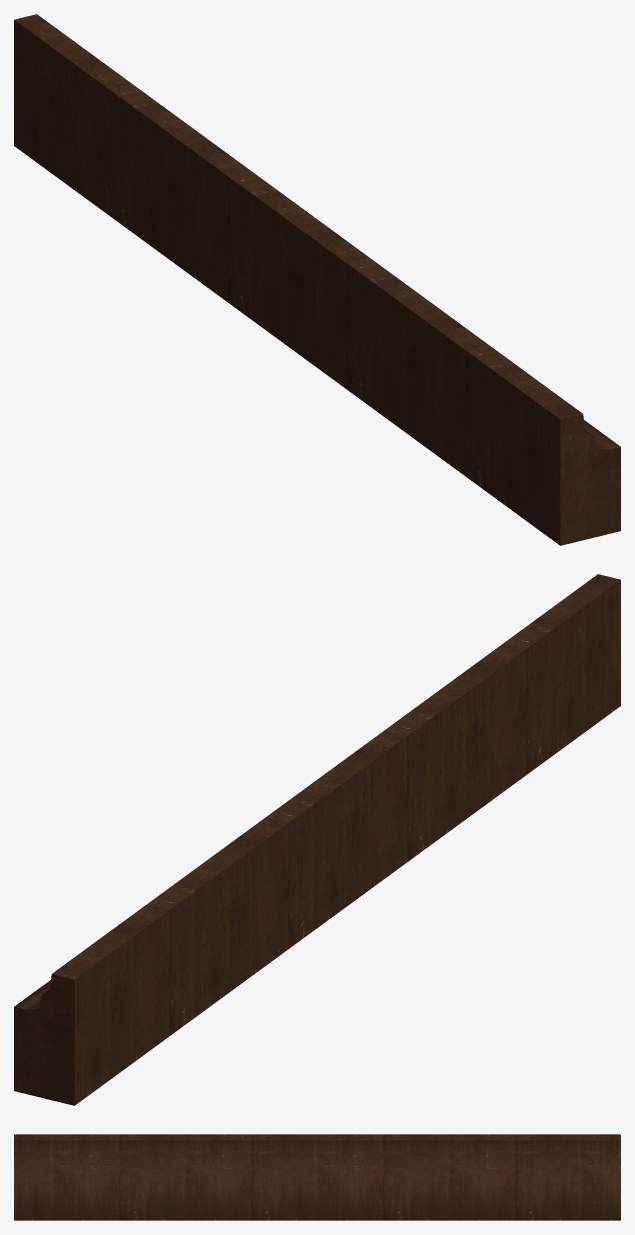
Rendered from souphalftrim001.obj.
The picture shows the model from 3 angles, top to bottom: view 1: azimuth 30°, elevation 25°; view 2: azimuth 150°, elevation 25°; view 3: azimuth 270°, elevation 25°; orthographic projection. The views are drawn at different scales.
Visible parts, largest first — view 1: souphalftrim001_high_1; view 2: souphalftrim001_high_1; view 3: souphalftrim001_high_1.
Boxes of the visible parts, <box> form: souphalftrim001_high_1: <box>14,14,620,545</box>; souphalftrim001_high_1: <box>14,574,620,1105</box>; souphalftrim001_high_1: <box>14,1134,620,1220</box>.
Size of the model in its own units: 0.0861 by 0.1712 by 1.34.
